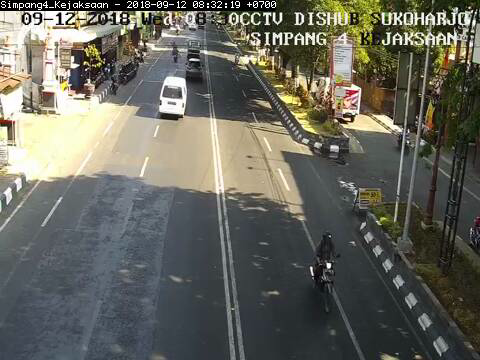motor: (309, 228, 342, 315)
